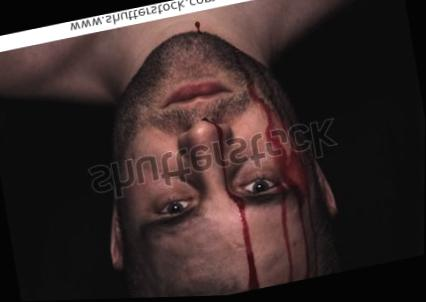Fire: (204, 41, 323, 290), (194, 22, 201, 32)
